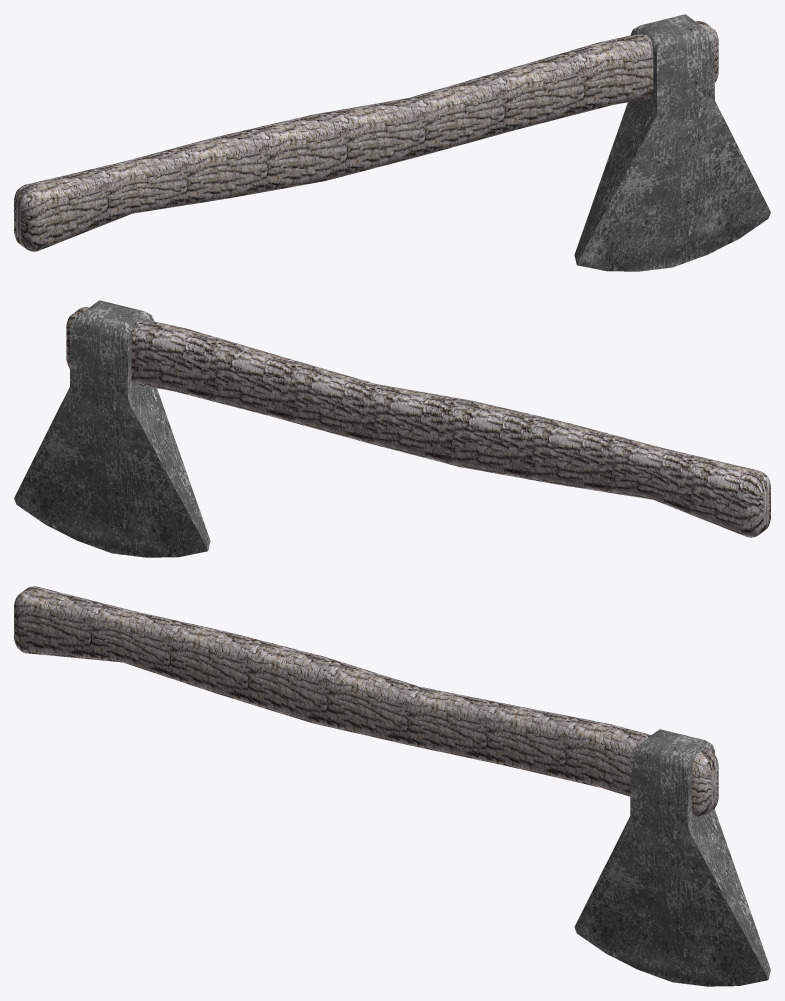
The picture shows the model from 3 angles, top to bottom: view 1: azimuth 30°, elevation 25°; view 2: azimuth 150°, elevation 25°; view 3: azimuth 330°, elevation 25°; orthographic projection.
Parts seen in each view (by area): view 1: Ax; view 2: Ax; view 3: Ax.
Part boxes in pixels (x1,y1,x2,y2): Ax: (14,14,770,271); Ax: (14,300,770,557); Ax: (14,586,770,986).
Size of the model in its own units: 64.68 by 19.96 by 4.
Materials: 2 (2 with a texture image).
